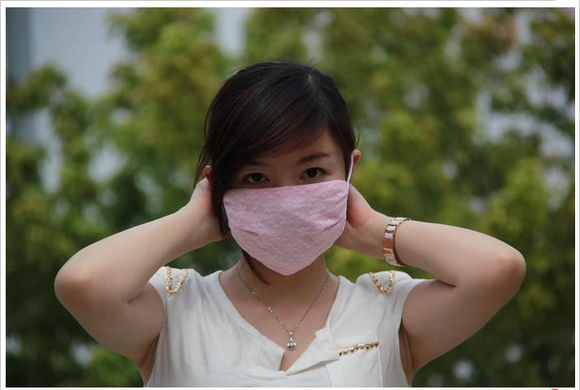face_mask: (227, 117, 349, 274)
